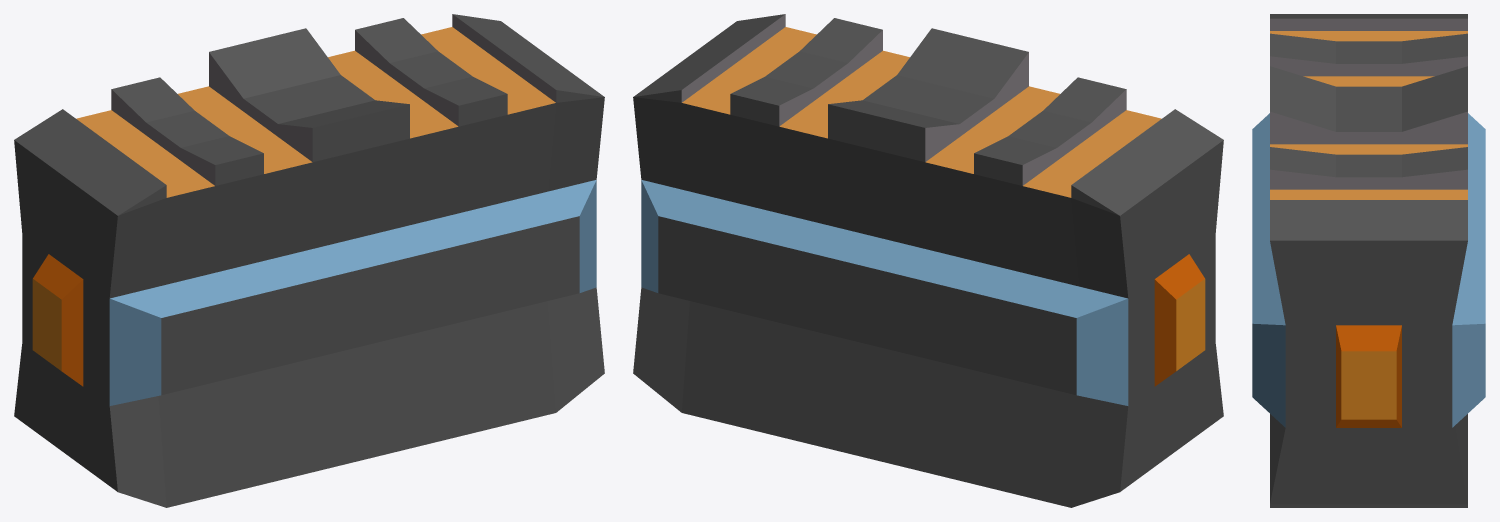
Rendered from body.obj.
3 views of the same model, side by side, from view 1: azimuth 30°, elevation 25°; view 2: azimuth 150°, elevation 25°; view 3: azimuth 270°, elevation 25° (orthographic). The views are drawn at different scales.
Parts seen in each view (by area): view 1: BodyPart; view 2: BodyPart; view 3: BodyPart.
Part boxes in pixels (x1,y1,x2,y2): BodyPart: (14,14,604,507); BodyPart: (633,14,1223,507); BodyPart: (1252,14,1485,507).
Bounding box in the file's own units: 1.89 × 1.19 × 0.7637.
